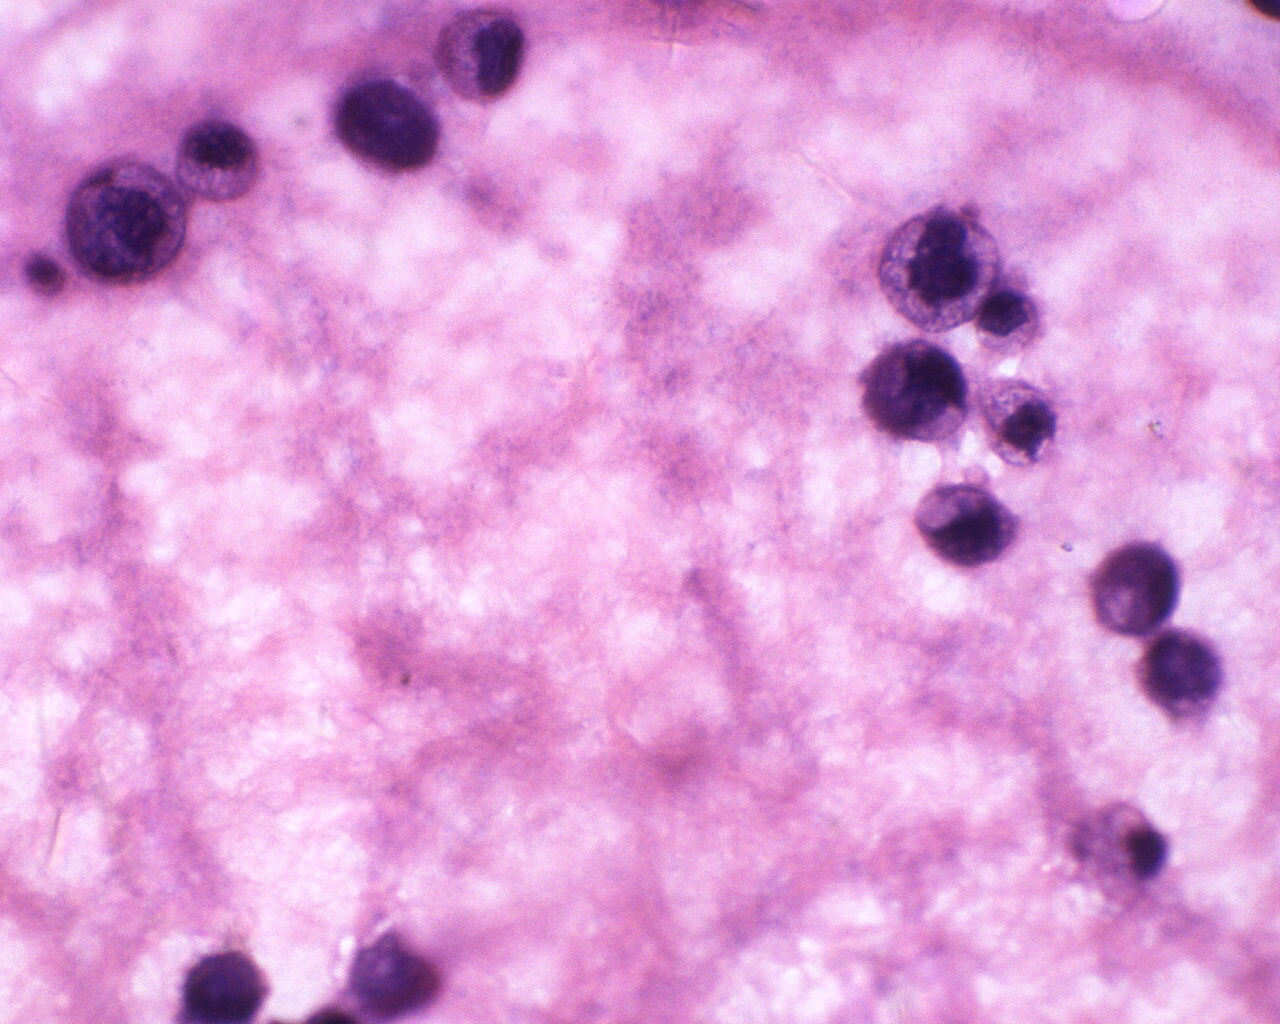ab: (880, 204, 1000, 336), (63, 154, 186, 279), (855, 334, 979, 451), (910, 476, 1026, 574), (1089, 534, 1185, 639), (429, 3, 529, 104), (978, 372, 1060, 472), (173, 117, 261, 201), (977, 287, 1045, 359)
